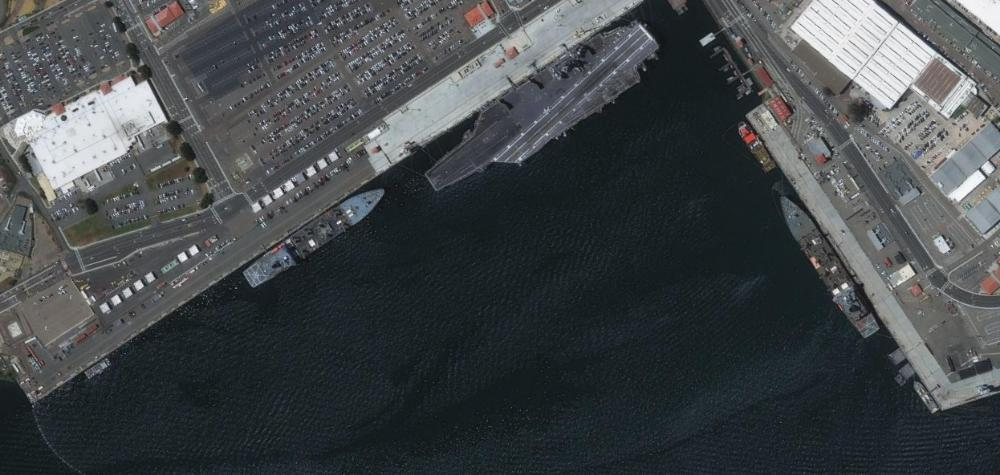tender: (780, 194, 885, 342), (241, 186, 386, 292)
